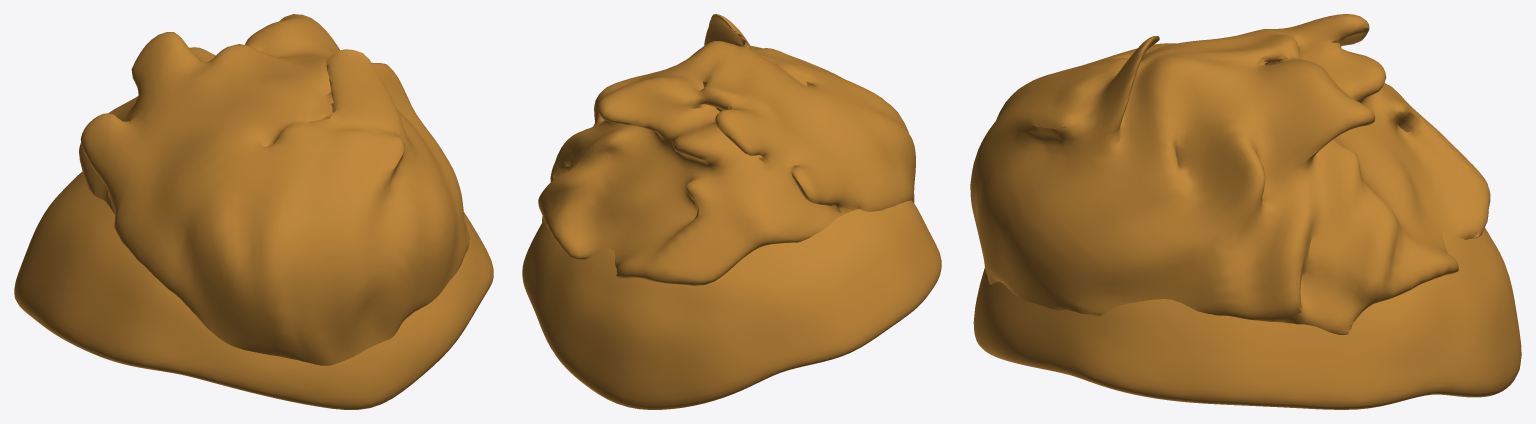
The model's file is Funkycut.gltf.
3 views of the same model, side by side, from view 1: azimuth 30°, elevation 25°; view 2: azimuth 150°, elevation 25°; view 3: azimuth 270°, elevation 25° (orthographic). The views are drawn at different scales.
Parts seen in each view (by area): view 1: hair6; view 2: hair6; view 3: hair6.
Part boxes in pixels (<box>): hair6: <box>14,14,493,409</box>; hair6: <box>522,14,941,409</box>; hair6: <box>970,14,1521,409</box>.
Size of the model in its own units: 6.67 by 4.94 by 6.81.
